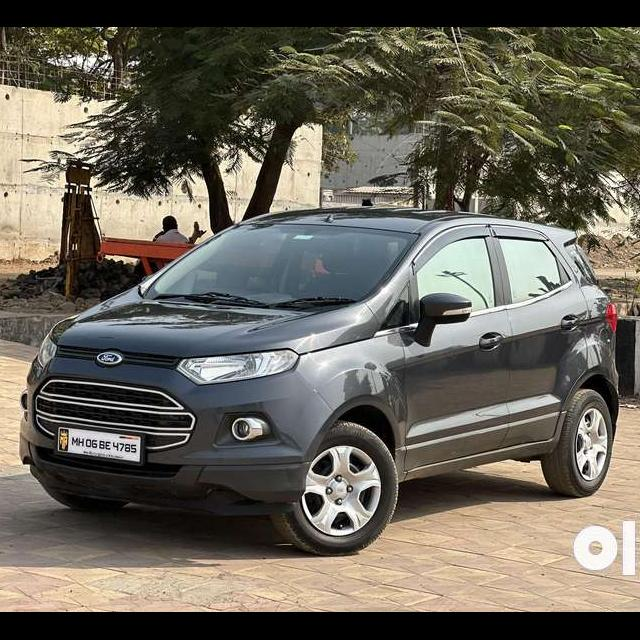Indian_Number_Plate: (58, 422, 144, 462)
